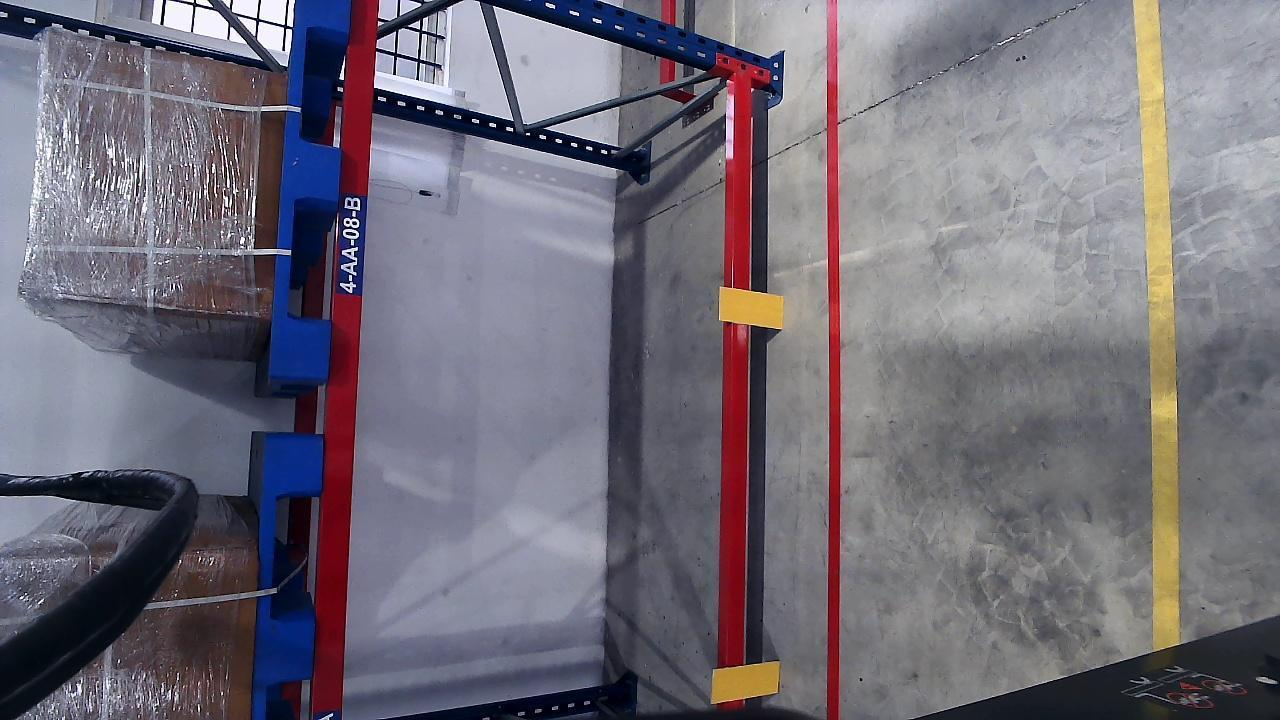red_line: (822, 0, 844, 720)
yellow_line: (1134, 0, 1181, 654)
